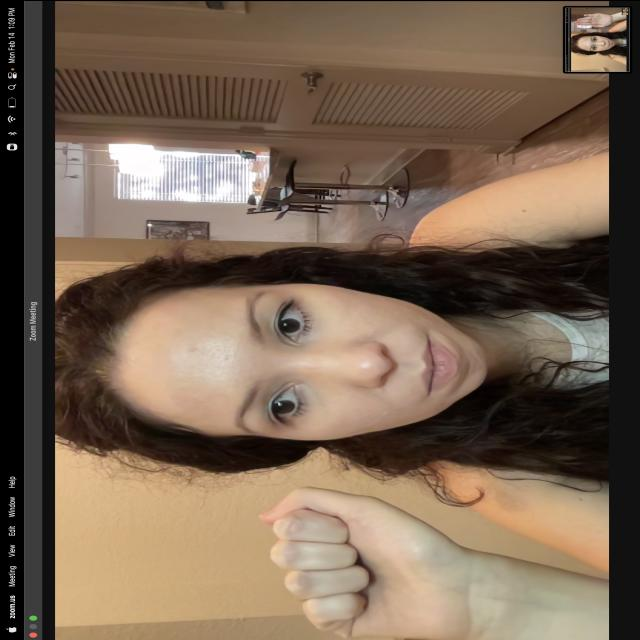Rock: (242, 483, 486, 637)
